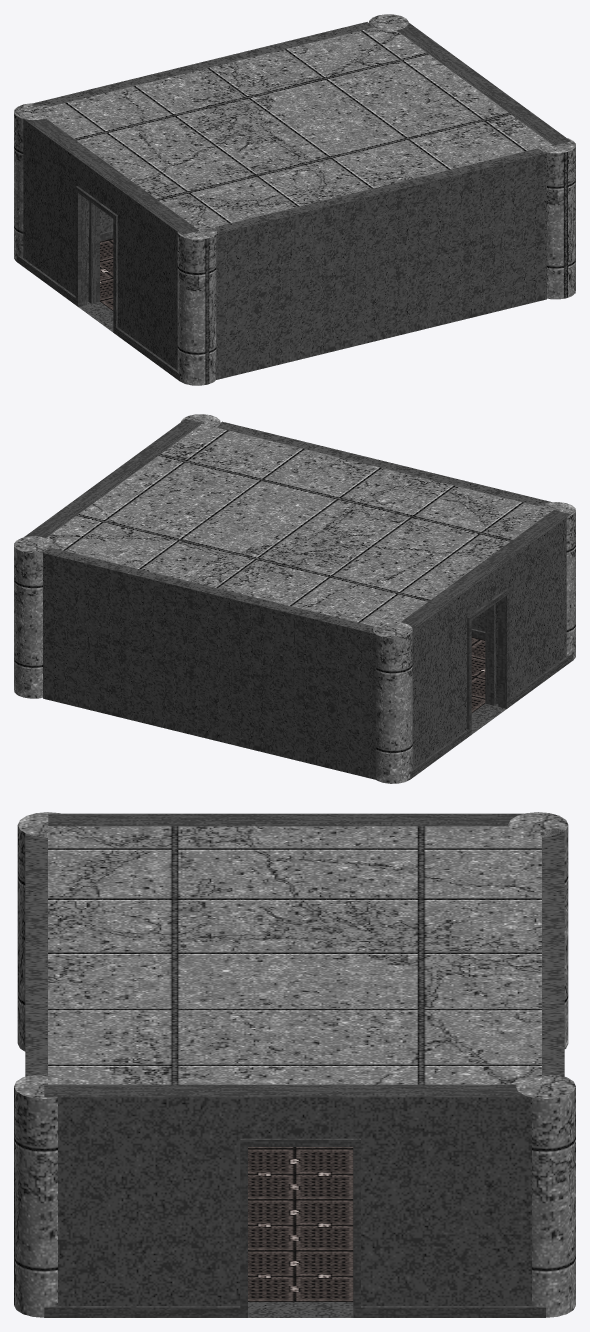
File: StartRoom.fbx
The picture shows the model from 3 angles, top to bottom: view 1: azimuth 30°, elevation 25°; view 2: azimuth 150°, elevation 25°; view 3: azimuth 270°, elevation 25°; orthographic projection. The views are drawn at different scales.
Visible parts, largest first — view 1: Cube.010, Cube.007, Cube.003, Cylinder.001, Cylinder.004, Cube.009, Cube.008, Cylinder.002, Cube.006; view 2: Cube.010, Cube.009, Cube.003, Cylinder.002, Cylinder.003, Cube.007, Cube.008, Cylinder.001, Cube.006; view 3: Cube.010, Cube.008, Cube.006, Cylinder.003, Cylinder.004, Cube.003, Cube.009, Cube.007, Cylinder.001, Cylinder.002.
Boxes of the visible parts, left/top/right/bottom form: Cube.010: left=46, top=24, right=552, bottom=230; Cube.007: left=205, top=148, right=546, bottom=379; Cube.003: left=16, top=118, right=198, bottom=381; Cylinder.001: left=177, top=227, right=217, bottom=385; Cylinder.004: left=538, top=138, right=575, bottom=299; Cube.009: left=32, top=22, right=374, bottom=241; Cube.008: left=397, top=22, right=570, bottom=145; Cylinder.002: left=14, top=103, right=53, bottom=261; Cube.006: left=78, top=238, right=113, bottom=332; Cube.010: left=38, top=424, right=553, bottom=626; Cube.009: left=43, top=547, right=384, bottom=779; Cube.003: left=401, top=510, right=573, bottom=779; Cylinder.002: left=373, top=621, right=412, bottom=783; Cylinder.003: left=14, top=536, right=49, bottom=698; Cube.007: left=217, top=421, right=551, bottom=639; Cube.008: left=23, top=419, right=202, bottom=537; Cylinder.001: left=539, top=502, right=575, bottom=659; Cube.006: left=471, top=637, right=506, bottom=734; Cube.010: left=48, top=826, right=541, bottom=1084; Cube.008: left=44, top=1084, right=545, bottom=1317; Cube.006: left=248, top=1147, right=353, bottom=1317; Cylinder.003: left=515, top=1075, right=575, bottom=1317; Cylinder.004: left=14, top=1074, right=57, bottom=1317; Cube.003: left=48, top=813, right=523, bottom=826; Cube.009: left=542, top=829, right=564, bottom=1076; Cube.007: left=25, top=830, right=47, bottom=1076; Cylinder.001: left=17, top=812, right=60, bottom=1051; Cylinder.002: left=508, top=812, right=568, bottom=1048.
Size of the model in its own units: 1125 by 400 by 931.
